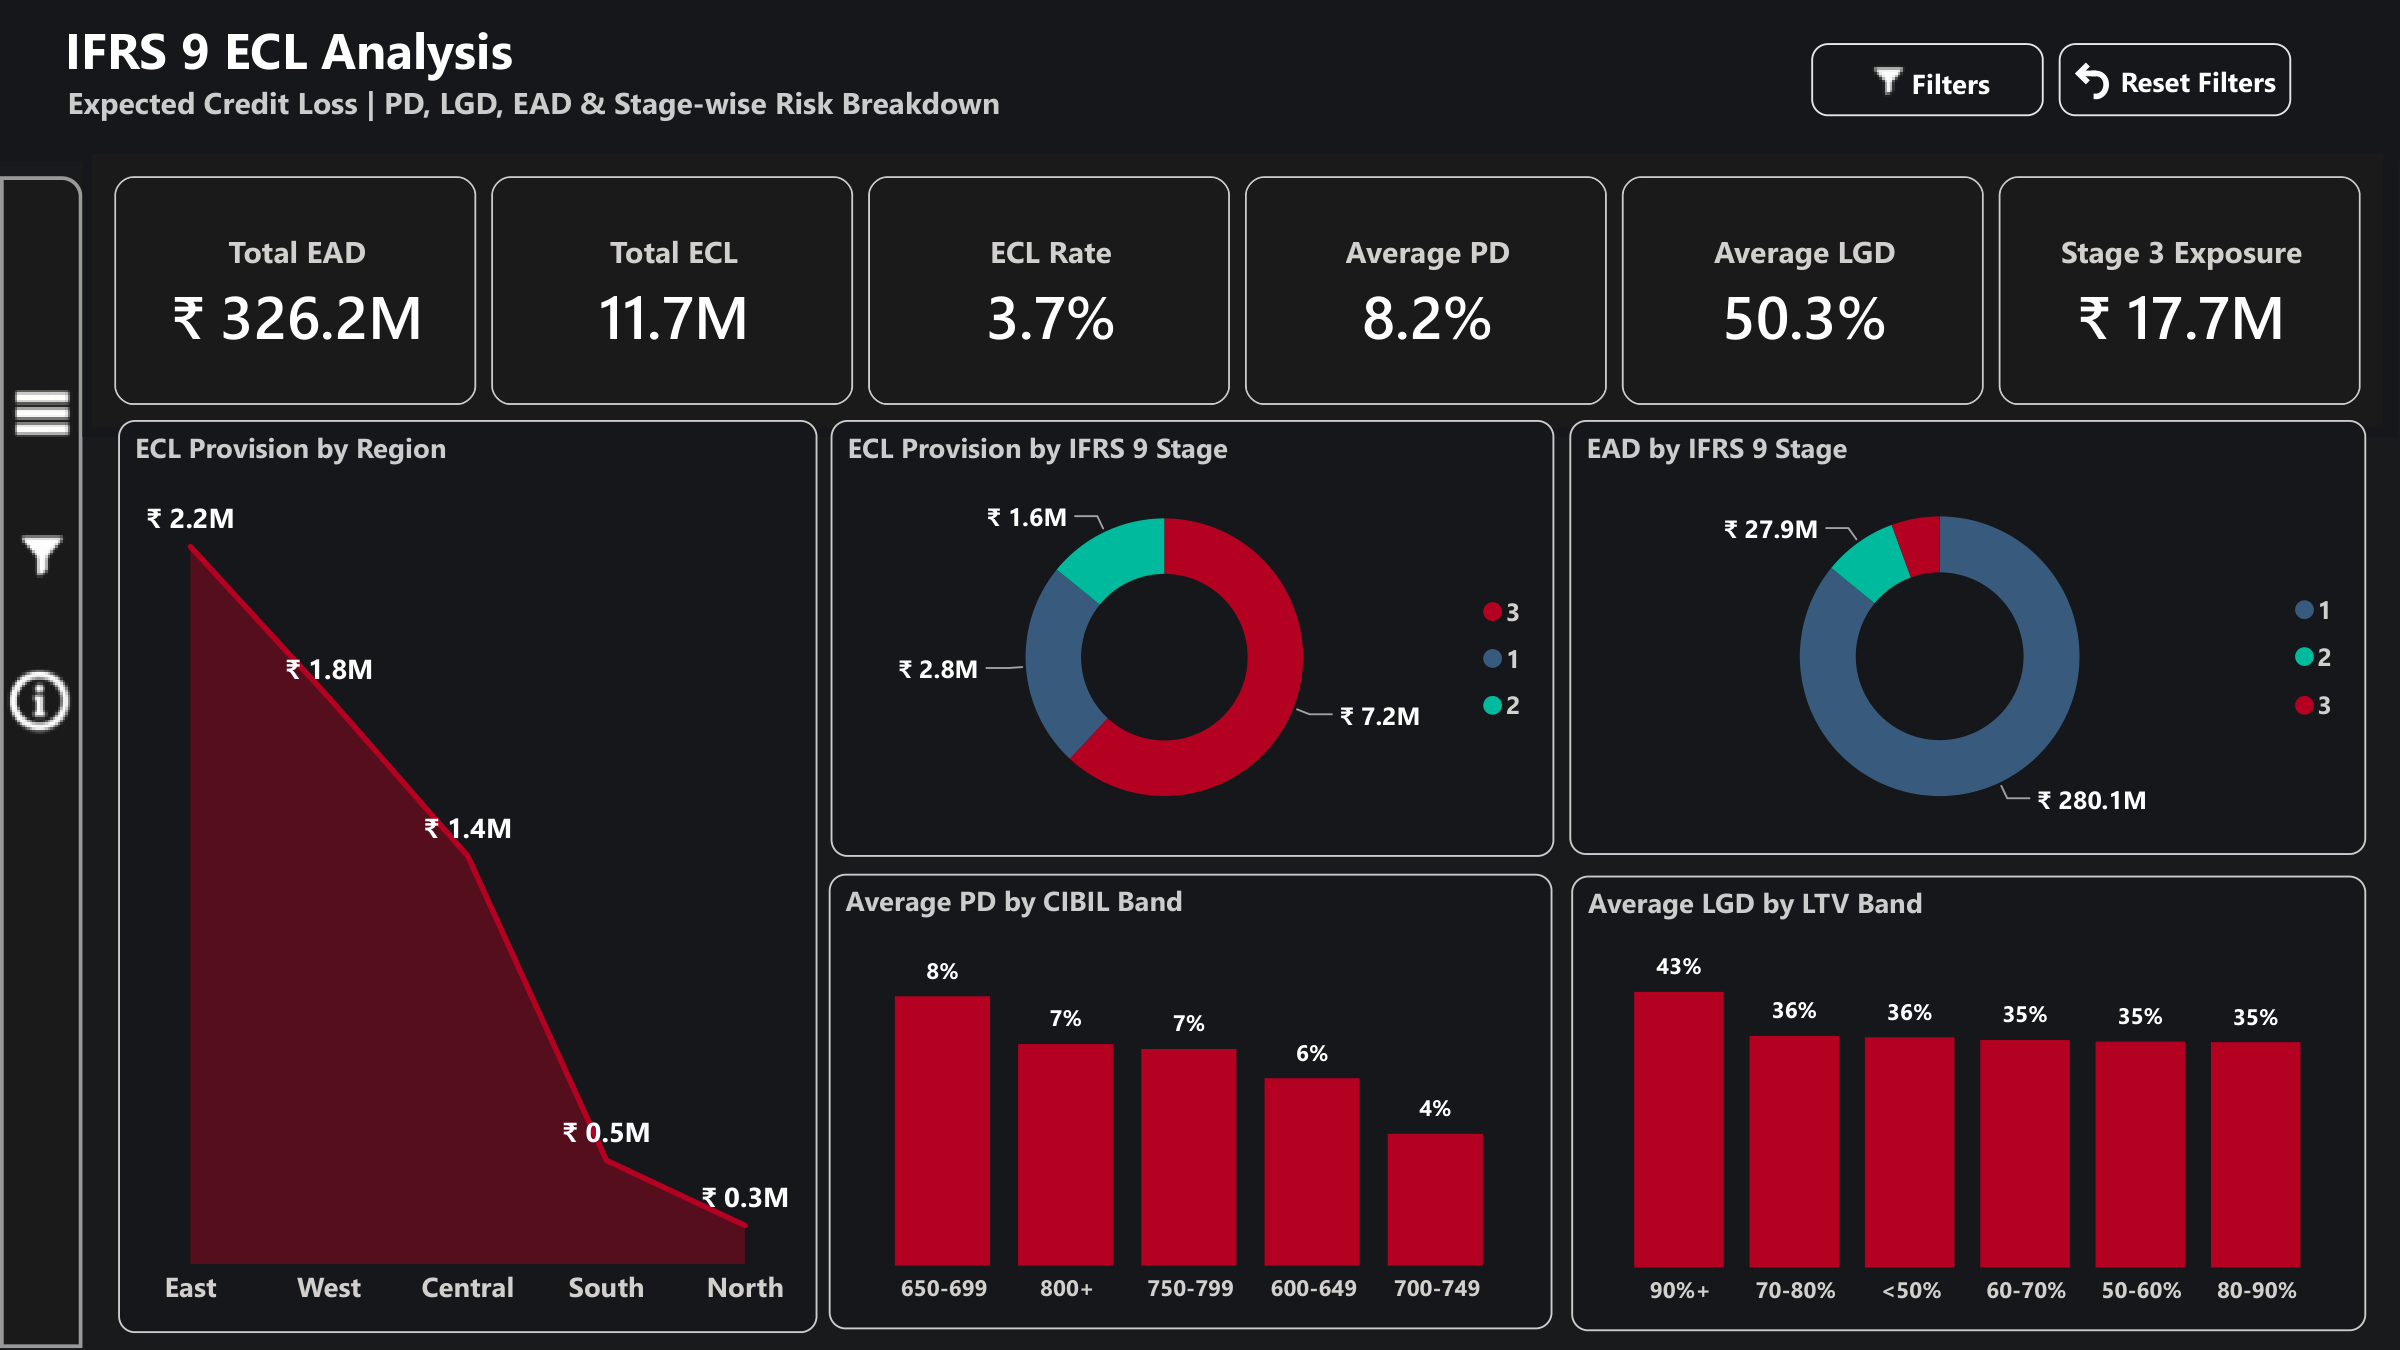

Layout of this report page (visuals, bound fields, positions):
{"tool":"powerbi","page":{"name":"IFRS 9 ECL Analysis","canvas":[1280,720],"ordinal":3},"visuals":[{"type":"group","id":"g1","title":"default page ","box":[0,0,1280,86.5],"z":0},{"type":"textbox","title":"Executive Overview","box":[0,0,1280,86.5],"z":0,"group":"g1"},{"type":"cardVisual","fields":{"Data":["Sum(Loan_Master.EAD)","Sum(Loan_Master.ECL_Provision)","Loan_Master.ECL Rate","Avg(Loan_Master.PD_Estimate)","Avg(Loan_Master.LGD_Estimate)","Loan_Master.Stage 3 Exposure"]},"box":[44.5,76.9,1235.2,156],"z":0,"group":"g3"},{"type":"shape","box":[0,94.1,44.3,625],"z":0,"group":"g2"},{"type":"shape","box":[350.8,142.2,576.7,429.8],"z":0,"group":"g4"},{"type":"actionButton","box":[1097.5,23.1,124.4,39],"z":1000,"group":"g1"},{"type":"textbox","box":[350,172.9,577.3,398.9],"z":1000,"group":"g4"},{"type":"actionButton","box":[0,181.3,44.5,77.6],"z":1000,"group":"g2"},{"type":"donutChart","title":"EAD by IFRS 9 Stage","fields":{"Y":["Sum(Loan_Master.EAD)"],"Category":["Loan_Master.IFRS9_Stage"]},"box":[837.8,224.3,424.2,231.7],"z":1000,"group":"g3"},{"type":"actionButton","box":[965.9,23.1,124.4,39],"z":2000,"group":"g1"},{"type":"shape","box":[350,120,579.1,52.1],"z":2000,"group":"g4"},{"type":"donutChart","title":"ECL Provision by IFRS 9 Stage","fields":{"Y":["Loan_Master.Total ECL"],"Category":["Loan_Master.IFRS9_Stage"]},"box":[443.6,224.3,385.6,233.1],"z":2000,"group":"g3"},{"type":"actionButton","box":[0,257.9,44.8,76.9],"z":2000,"group":"g2"},{"type":"actionButton","box":[887.2,120,42.8,53.8],"z":3000,"group":"g4"},{"type":"areaChart","title":"ECL Provision by Region","fields":{"Category":["Loan_Master.Region"],"Y":["Loan_Master.Total ECL"]},"box":[63.7,224.3,372.8,486.2],"z":3000,"group":"g3"},{"type":"actionButton","box":[0,334.9,44.8,78.3],"z":3000,"group":"g2"},{"type":"group","id":"g2","title":"navigation bar","box":[0,94.1,44.8,625],"z":4000},{"type":"textbox","box":[398.6,120,406.2,49.7],"z":4000,"group":"g4"},{"type":"columnChart","title":"Average PD by CIBIL Band","fields":{"Category":["Loan_Master.CIBIL Band"],"Y":["Avg(Loan_Master.PD_Estimate)"]},"box":[443,465.8,385.6,243.1],"z":4000,"group":"g3"},{"type":"group","id":"g3","title":"charts unfolded ","box":[44.5,76.9,1235.2,633.6],"z":5000},{"type":"actionButton","box":[377.2,125.9,27.2,32],"z":5000,"group":"g4"},{"type":"columnChart","title":"Average LGD by LTV Band","fields":{"Category":["Loan_Master.LTV Band"],"Y":["Min(Loan_Master.LGD_Estimate)"]},"box":[838.3,466.5,424.2,243.1],"z":5000,"group":"g3"},{"type":"group","id":"g4","title":"info","box":[350,120,580,452],"z":7000}]}

Visuals, with their boxes on the page's 1280x720 design canvas (x1, y1, x2, y2). These are canvas units, not pixel positions in the 2400x1350 screenshot, which may show the page scaled, cropped or inside an application window:
"default page " group: {"x1": 0, "y1": 0, "x2": 1280, "y2": 86}
"Executive Overview" textbox: {"x1": 0, "y1": 0, "x2": 1280, "y2": 86}
cardVisual - Sum(Loan_Master.EAD) x Sum(Loan_Master.ECL_Provision): {"x1": 44, "y1": 77, "x2": 1280, "y2": 233}
shape: {"x1": 0, "y1": 94, "x2": 44, "y2": 719}
shape: {"x1": 351, "y1": 142, "x2": 928, "y2": 572}
actionButton: {"x1": 1098, "y1": 23, "x2": 1222, "y2": 62}
textbox: {"x1": 350, "y1": 173, "x2": 927, "y2": 572}
actionButton: {"x1": 0, "y1": 181, "x2": 44, "y2": 259}
"EAD by IFRS 9 Stage" donutChart: {"x1": 838, "y1": 224, "x2": 1262, "y2": 456}
actionButton: {"x1": 966, "y1": 23, "x2": 1090, "y2": 62}
shape: {"x1": 350, "y1": 120, "x2": 929, "y2": 172}
"ECL Provision by IFRS 9 Stage" donutChart: {"x1": 444, "y1": 224, "x2": 829, "y2": 457}
actionButton: {"x1": 0, "y1": 258, "x2": 45, "y2": 335}
actionButton: {"x1": 887, "y1": 120, "x2": 930, "y2": 174}
"ECL Provision by Region" areaChart: {"x1": 64, "y1": 224, "x2": 436, "y2": 710}
actionButton: {"x1": 0, "y1": 335, "x2": 45, "y2": 413}
"navigation bar" group: {"x1": 0, "y1": 94, "x2": 45, "y2": 719}
textbox: {"x1": 399, "y1": 120, "x2": 805, "y2": 170}
"Average PD by CIBIL Band" columnChart: {"x1": 443, "y1": 466, "x2": 829, "y2": 709}
"charts unfolded " group: {"x1": 44, "y1": 77, "x2": 1280, "y2": 710}
actionButton: {"x1": 377, "y1": 126, "x2": 404, "y2": 158}
"Average LGD by LTV Band" columnChart: {"x1": 838, "y1": 466, "x2": 1262, "y2": 710}
"info" group: {"x1": 350, "y1": 120, "x2": 930, "y2": 572}
